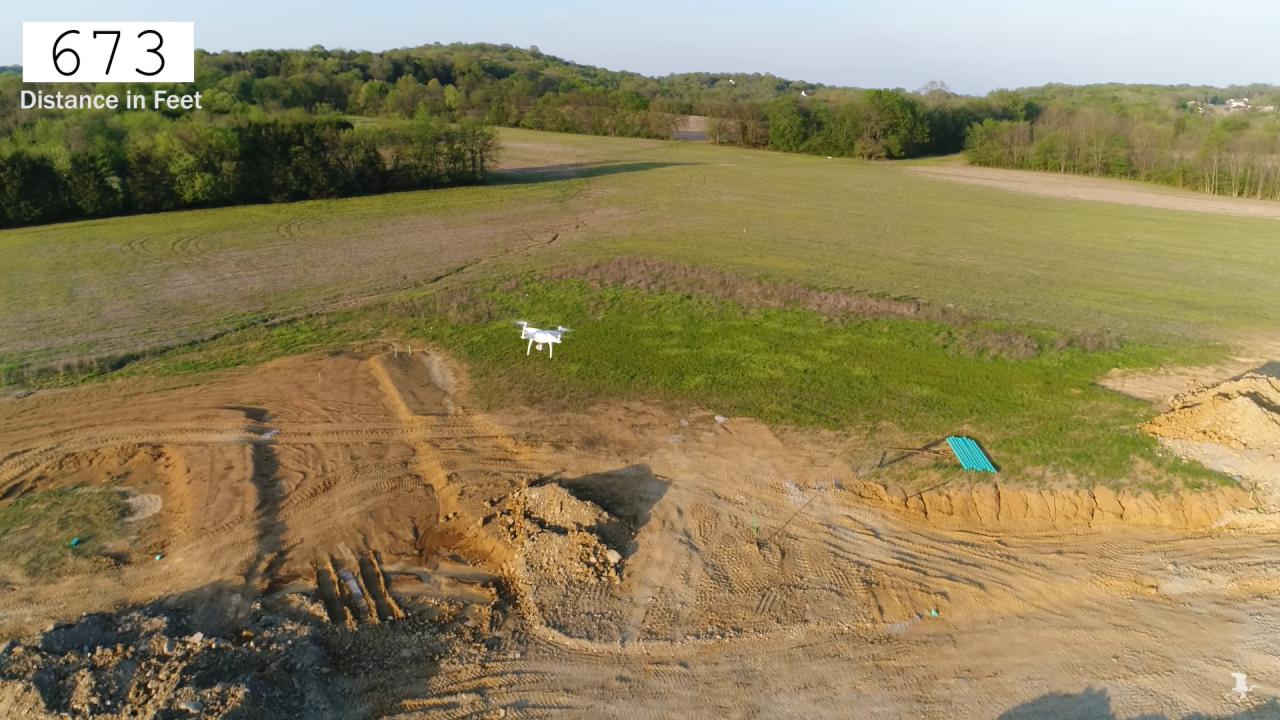Drone: (504, 311, 581, 364)
